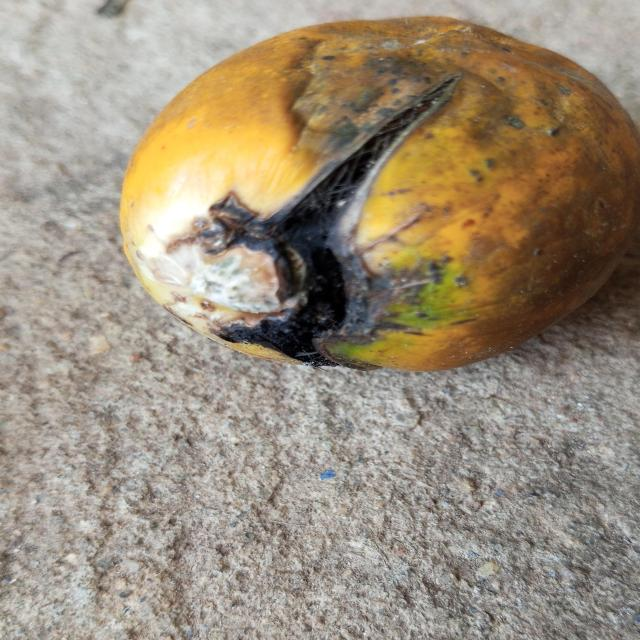damaged: (118, 15, 640, 375)
